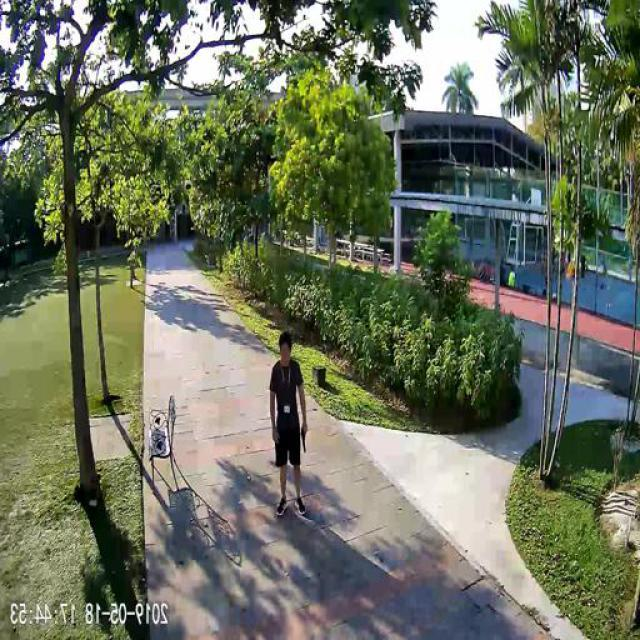Gun: (302, 428, 310, 454)
